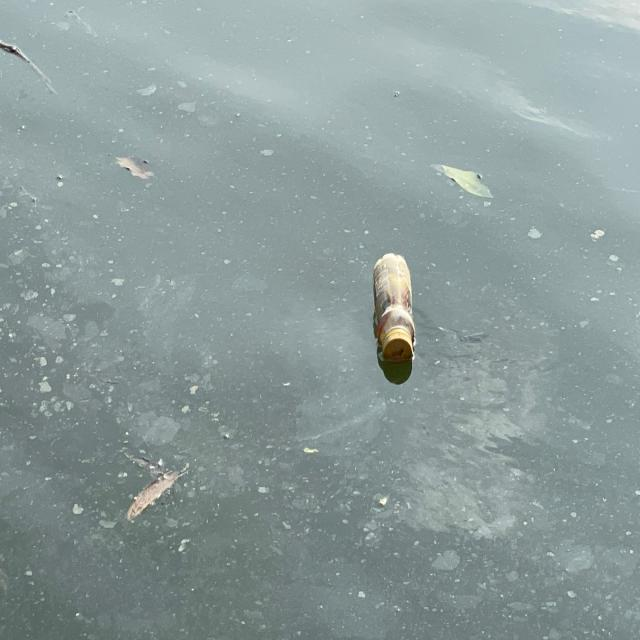Botol Plastik: (367, 248, 421, 377)
